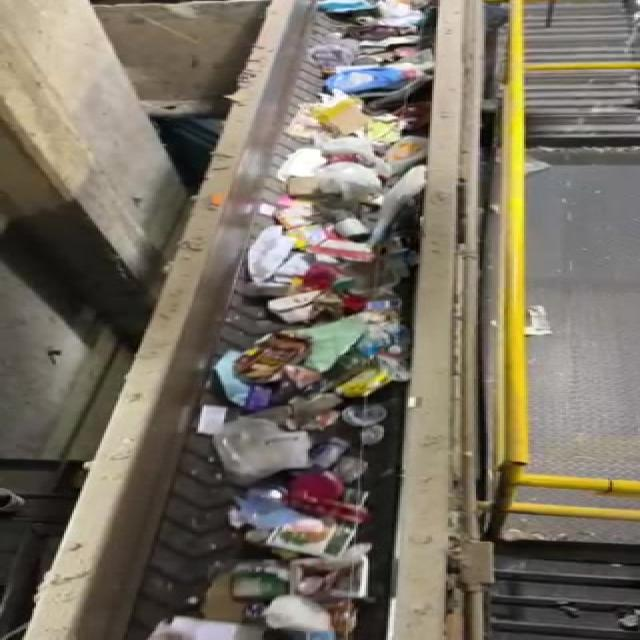paper: (218, 498, 380, 552), (175, 400, 229, 436)
pp: (292, 560, 391, 603), (340, 398, 395, 448)
ps: (214, 419, 318, 483)
